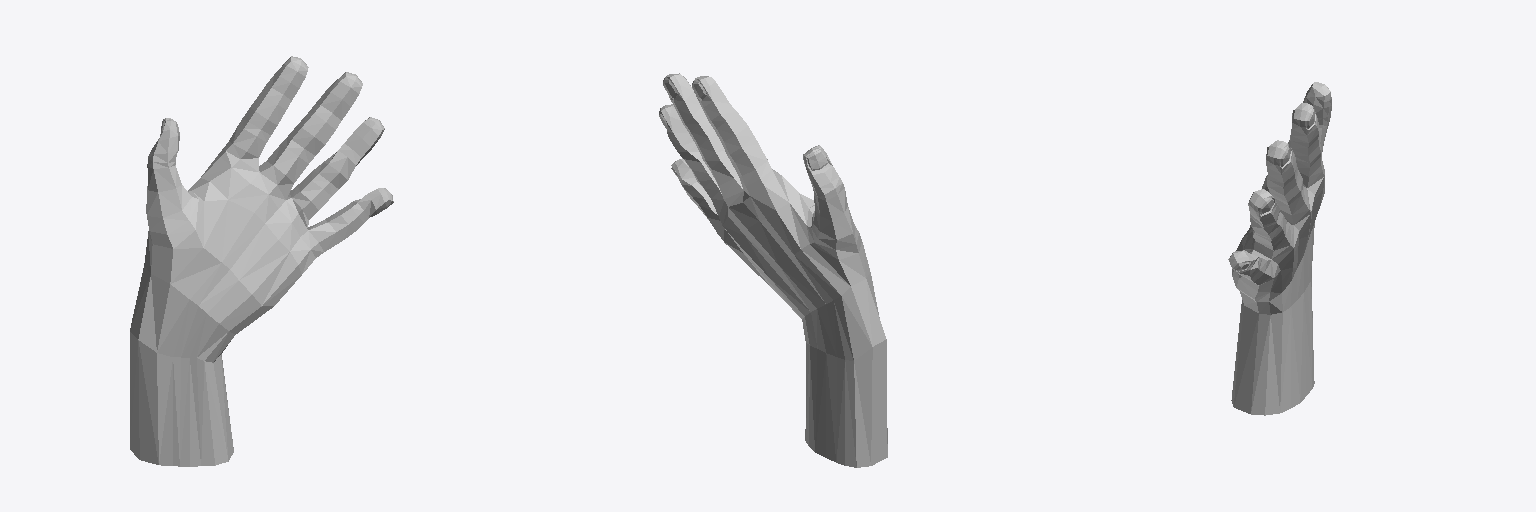
The model's file is handAnimated4_000145.obj.
3 renders of one model, left to right at view 1: azimuth 30°, elevation 25°; view 2: azimuth 150°, elevation 25°; view 3: azimuth 270°, elevation 25°, orthographic.
Parts seen in each view (by area): view 1: Cube.000_Cube.017_Detached_Detached; view 2: Cube.000_Cube.017_Detached_Detached; view 3: Cube.000_Cube.017_Detached_Detached.
Boxes of the visible parts, <box> form: Cube.000_Cube.017_Detached_Detached: <box>130,56,393,466</box>; Cube.000_Cube.017_Detached_Detached: <box>659,73,887,467</box>; Cube.000_Cube.017_Detached_Detached: <box>1228,82,1331,415</box>.
Size of the model in its own units: 0.8176 by 1.17 by 0.3096.